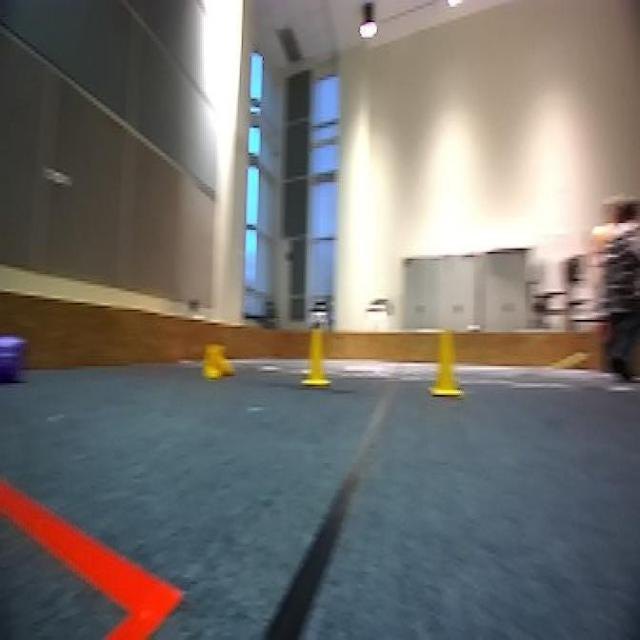frc_cone: (421, 323, 472, 402), (298, 323, 336, 385), (201, 342, 237, 380)
frc_cube: (0, 334, 27, 386)
